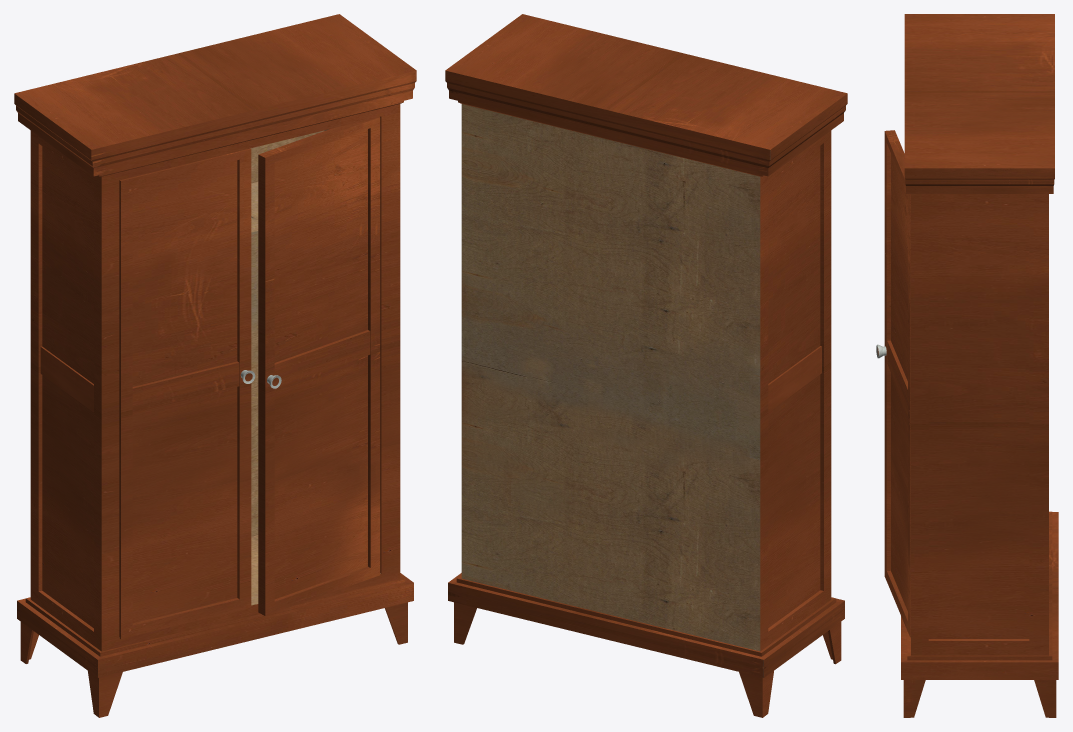
File: chiffonier.FBX
3 renders of one model, left to right at view 1: azimuth 30°, elevation 25°; view 2: azimuth 150°, elevation 25°; view 3: azimuth 270°, elevation 25°, orthographic. The views are drawn at different scales.
Visible parts, largest first — view 1: chiffonier; view 2: chiffonier; view 3: chiffonier.
Part boxes in pixels (x1,y1,x2,y2): chiffonier: (14,14,416,717); chiffonier: (445,14,847,717); chiffonier: (876,14,1058,717).
Bounding box in the file's own units: 130 × 218 × 65.11.
